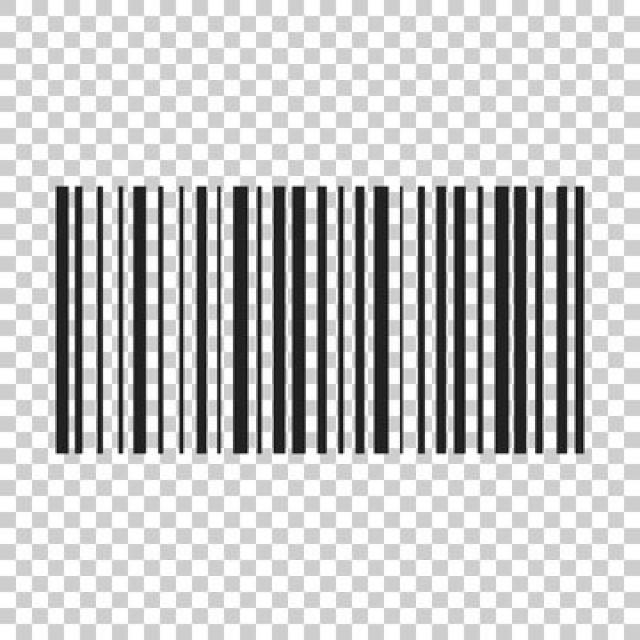Barkod: (39, 170, 597, 474)
